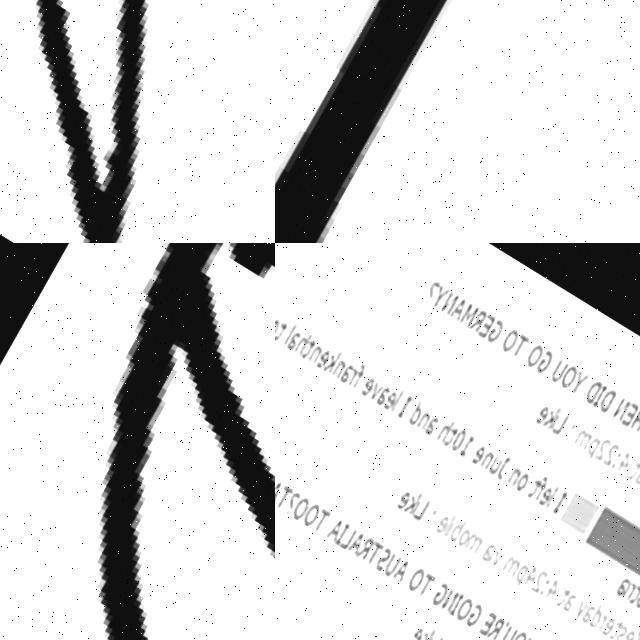0: (607, 449, 631, 477), (512, 564, 536, 591), (533, 577, 556, 603)
1: (275, 0, 640, 243)
G: (0, 243, 275, 640)
H: (21, 0, 137, 243)
